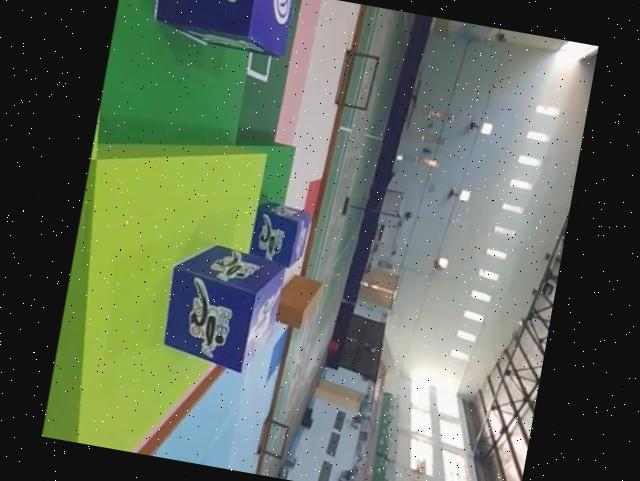R1 Blue: (154, 237, 285, 377), (246, 200, 312, 272)
R2 Fake Blue: (140, 0, 297, 60)
